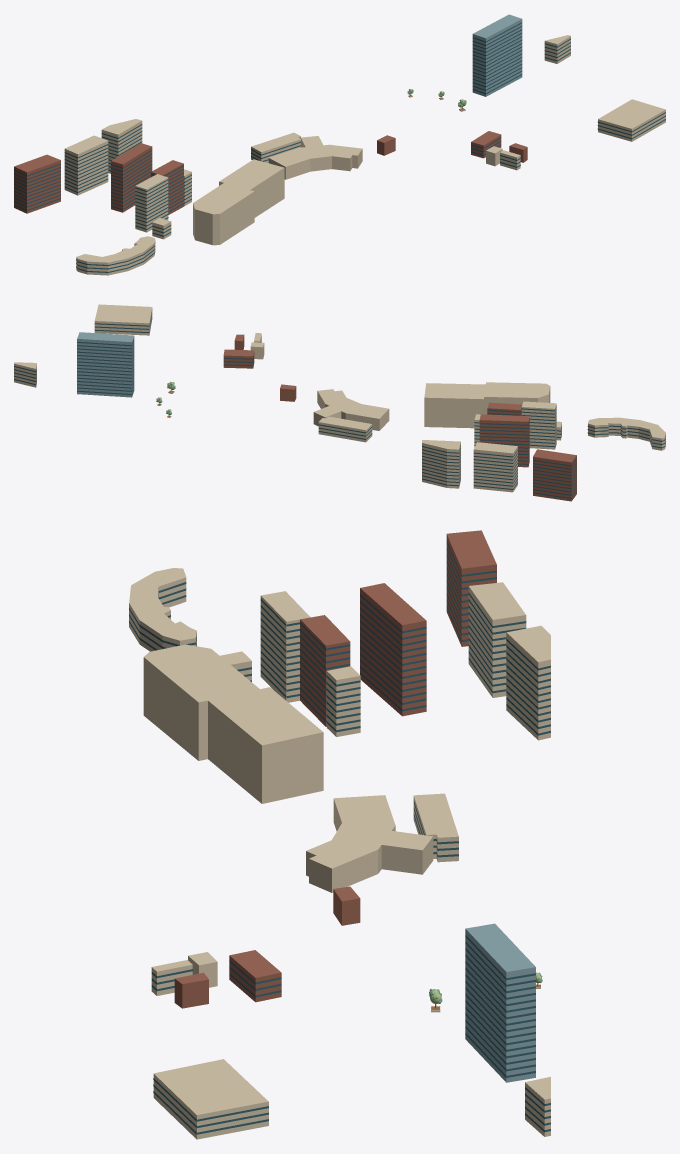
The picture shows the model from 3 angles, top to bottom: view 1: azimuth 30°, elevation 25°; view 2: azimuth 150°, elevation 25°; view 3: azimuth 270°, elevation 25°; orthographic projection. The views are drawn at different scales.
Visible parts, largest first — view 1: osm-way-612410366, osm-way-1323407614, osm-way-1317964106, osm-way-612173022, osm-way-612173023, osm-way-610986348, osm-way-1323407615, osm-way-1323408463, osm-relation-8477819, osm-way-610986346, osm-way-612173024, osm-way-610986345 (+3 smaller); view 2: osm-way-612410366, osm-way-1323407615, osm-way-612173023, osm-way-612173022, osm-way-612173024, osm-way-610986348, osm-way-1317964106, osm-way-1323408463, osm-relation-8477819, osm-way-610986346, osm-way-1323407614, osm-way-1317964105 (+3 smaller); view 3: osm-way-1323407615, osm-way-612410366, osm-way-1317964106, osm-way-1323407614, osm-way-610986348, osm-way-1323408463, osm-way-612173023, osm-way-612173024, osm-relation-8477819, osm-way-610986346, osm-way-612173022, osm-way-610986345 (+7 smaller).
Part boxes in pixels (<box>): osm-way-612410366: <box>472,14,522,96</box>; osm-way-1323407614: <box>193,183,254,245</box>; osm-way-1317964106: <box>268,136,362,179</box>; osm-way-612173022: <box>14,154,60,213</box>; osm-way-612173023: <box>64,135,108,195</box>; osm-way-610986348: <box>111,143,152,212</box>; osm-way-1323407615: <box>219,159,284,217</box>; osm-way-1323408463: <box>597,99,665,141</box>; osm-relation-8477819: <box>76,236,155,275</box>; osm-way-610986346: <box>135,174,168,232</box>; osm-way-612173024: <box>101,119,142,173</box>; osm-way-610986345: <box>151,160,183,214</box>; osm-way-612410366: <box>77,332,134,397</box>; osm-way-1323407615: <box>424,383,485,428</box>; osm-way-612173023: <box>473,442,517,492</box>; osm-way-612173022: <box>533,449,576,501</box>; osm-way-612173024: <box>422,440,460,488</box>; osm-way-610986348: <box>479,414,529,467</box>; osm-way-1317964106: <box>313,389,389,430</box>; osm-way-1323408463: <box>94,304,152,335</box>; osm-relation-8477819: <box>587,417,665,450</box>; osm-way-610986346: <box>521,401,556,449</box>; osm-way-1323407614: <box>484,382,550,414</box>; osm-way-1317964105: <box>318,416,372,442</box>; osm-way-1323407615: <box>208,687,323,803</box>; osm-way-612410366: <box>465,923,535,1082</box>; osm-way-1317964106: <box>306,795,433,892</box>; osm-way-1323407614: <box>143,644,259,760</box>; osm-way-610986348: <box>360,583,426,716</box>; osm-way-1323408463: <box>153,1059,268,1139</box>; osm-way-612173023: <box>468,582,526,697</box>; osm-way-612173024: <box>506,625,550,740</box>; osm-relation-8477819: <box>129,568,196,651</box>; osm-way-610986346: <box>260,591,310,702</box>; osm-way-612173022: <box>446,530,496,646</box>; osm-way-610986345: <box>300,615,350,726</box>.
Bounding box in the file's own units: 721 × 68 × 235.
